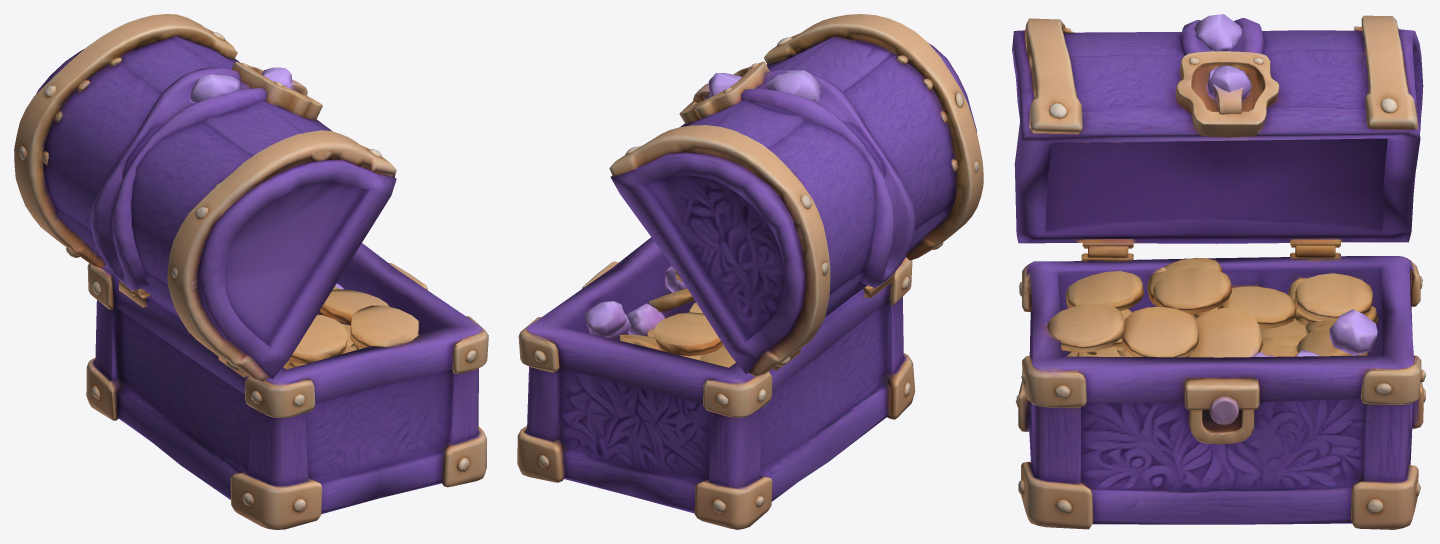
Rendered from r33-chest.glb.
The picture shows the model from 3 angles, left to right: view 1: azimuth 30°, elevation 25°; view 2: azimuth 150°, elevation 25°; view 3: azimuth 270°, elevation 25°; orthographic projection. The views are drawn at different scales.
Parts seen in each view (by area): view 1: tripo_node_95bc1224-4ce4-4047-90b9-18eaae39be28; view 2: tripo_node_95bc1224-4ce4-4047-90b9-18eaae39be28; view 3: tripo_node_95bc1224-4ce4-4047-90b9-18eaae39be28.
Boxes of the visible parts, x1,y1,x2,y2 form: tripo_node_95bc1224-4ce4-4047-90b9-18eaae39be28: [14, 14, 488, 529]; tripo_node_95bc1224-4ce4-4047-90b9-18eaae39be28: [517, 14, 983, 529]; tripo_node_95bc1224-4ce4-4047-90b9-18eaae39be28: [1012, 14, 1425, 529].
Size of the model in its own units: 0.8574 by 0.998 by 0.9043.
Materials: 1 (1 with a texture image).
